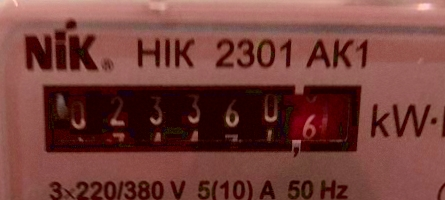0: (65, 95, 88, 130), (258, 89, 281, 124)
2: (105, 92, 127, 128)
3: (144, 92, 165, 127), (183, 91, 202, 125)
6: (220, 93, 241, 127), (298, 108, 317, 141)
screen: (28, 69, 380, 171)
